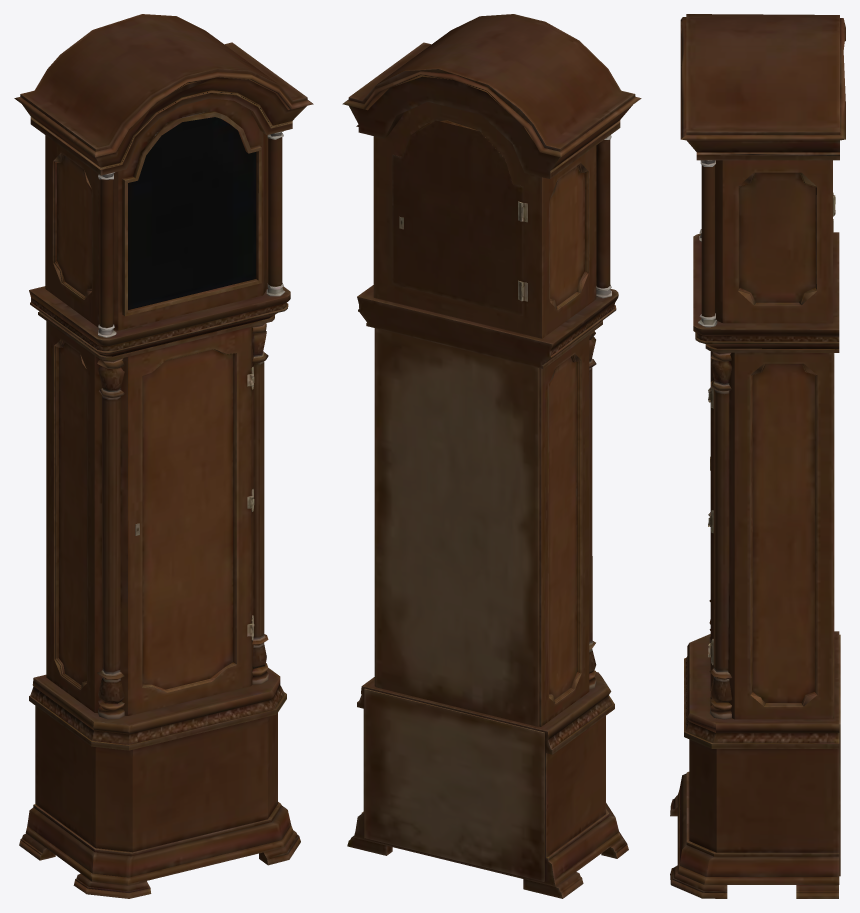
The model's file is vintage_grandfather_clock_01.glb.
3 views of the same model, side by side, from view 1: azimuth 30°, elevation 25°; view 2: azimuth 150°, elevation 25°; view 3: azimuth 270°, elevation 25° (orthographic). The views are drawn at different scales.
Visible parts, largest first — view 1: vintage_grandfather_clock_01_body; view 2: vintage_grandfather_clock_01_body; view 3: vintage_grandfather_clock_01_body.
Boxes of the visible parts, left/top/right/bottom form: vintage_grandfather_clock_01_body: left=14, top=14, right=313, bottom=898; vintage_grandfather_clock_01_body: left=342, top=14, right=641, bottom=898; vintage_grandfather_clock_01_body: left=670, top=14, right=845, bottom=898.
Bounding box in the file's own units: 0.6257 × 2.19 × 0.4265.
2 materials, 2 textured.
